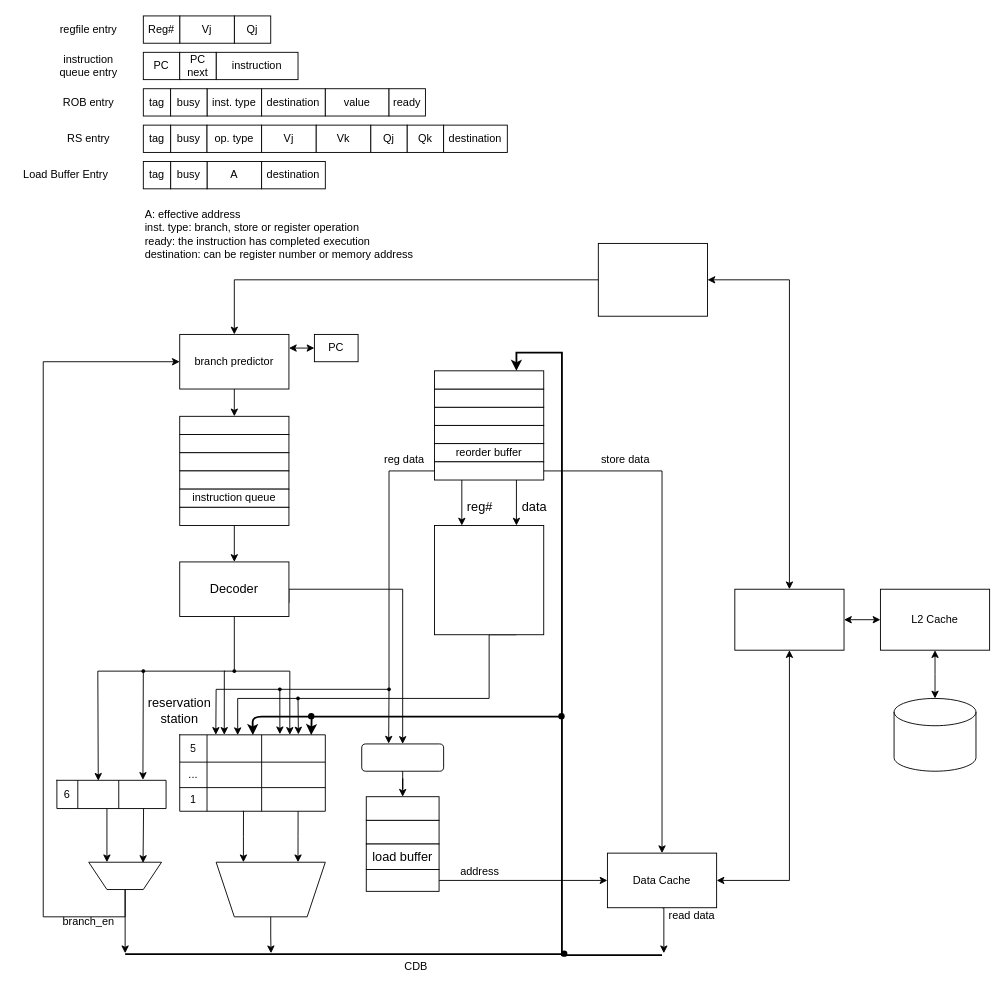
Image size: 1006x996. Some labels were removed from this diagram. The shapes that lost their labels are listed below. From the top down, each one's centre as x and y in pixels, then its label:
At (x=652, y=279): "Instruction Cache".
At (x=489, y=580): "register file".
At (x=789, y=619): "Cache Arbiter".
At (x=934, y=734): "Memory".
At (x=402, y=757): "address unit".
At (x=125, y=875): "CMP".
At (x=270, y=889): "ALU".
